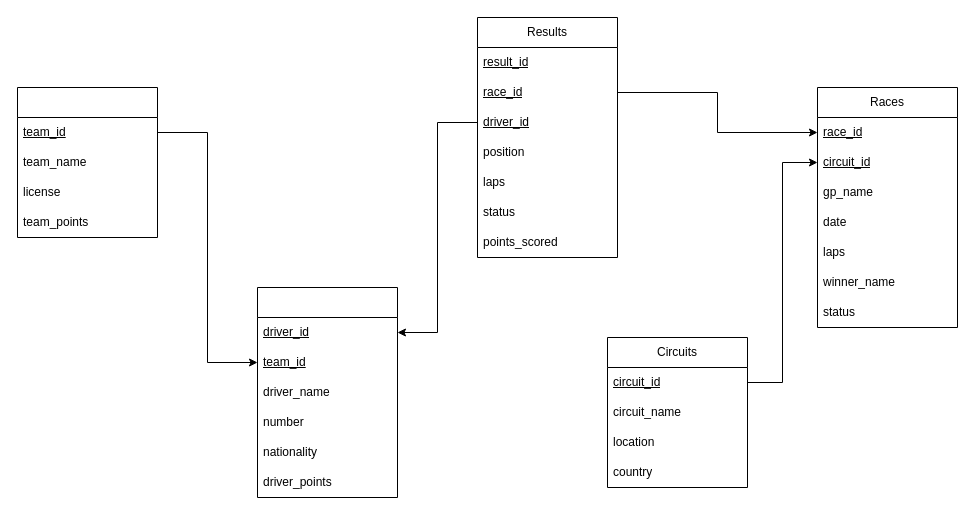
Some shapes in this 975 by 515 pixel diagram are drawn without their labels. Each missing label, with the box of its shape:
Drivers: (256, 286, 398, 498)
Teams: (16, 86, 158, 238)
